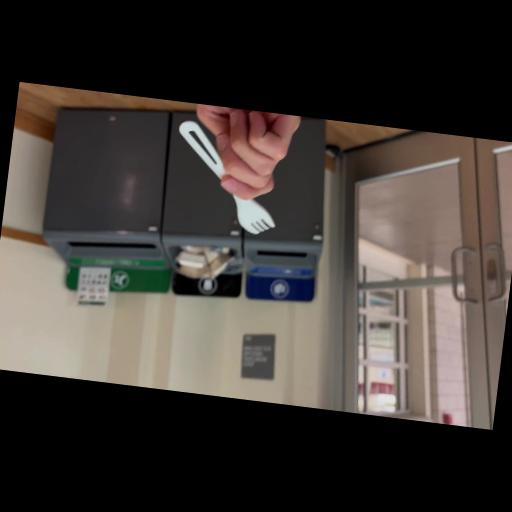utensil: (158, 112, 300, 246)
